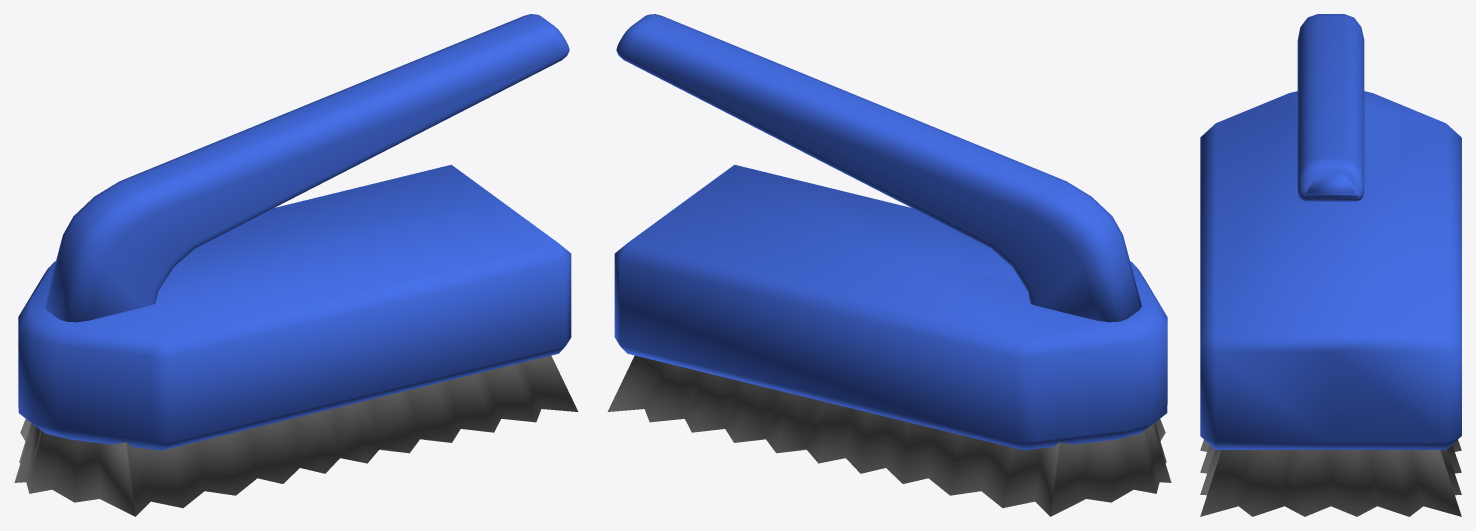
File: scrub.glb
3 renders of one model, left to right at view 1: azimuth 30°, elevation 25°; view 2: azimuth 150°, elevation 25°; view 3: azimuth 270°, elevation 25°, orthographic. The views are drawn at different scales.
Visible parts, largest first — view 1: Burasi_B_0; view 2: Burasi_B_0; view 3: Burasi_B_0.
Part boxes in pixels (box(x1,y1,x2,y2)): Burasi_B_0: box(14, 14, 578, 516); Burasi_B_0: box(607, 14, 1171, 516); Burasi_B_0: box(1200, 14, 1461, 516).
Size of the model in its own units: 21.48 by 13.13 by 8.47.
